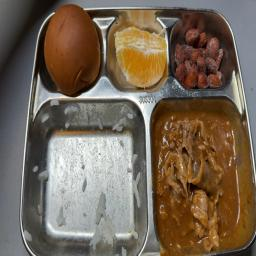100_bread: (40, 5, 103, 94)
100_nuts: (172, 26, 224, 92)
100_orange: (110, 23, 169, 88)
75_beef: (155, 106, 250, 250)
empty: (29, 101, 141, 248)
